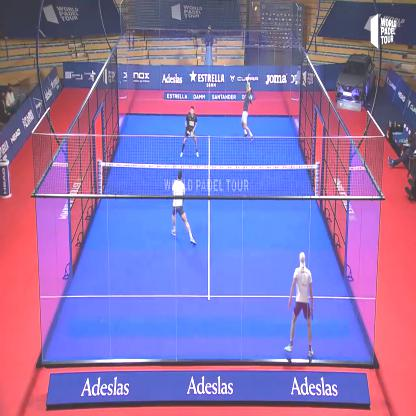ball: (252, 2, 260, 16)
